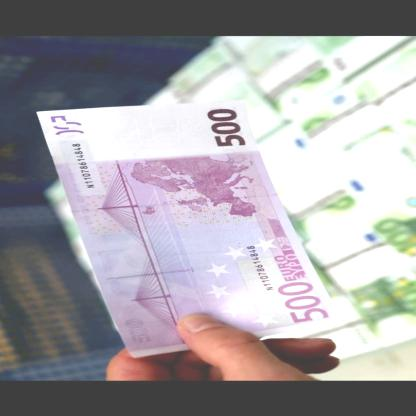euro_banknote: (30, 114, 342, 323)
